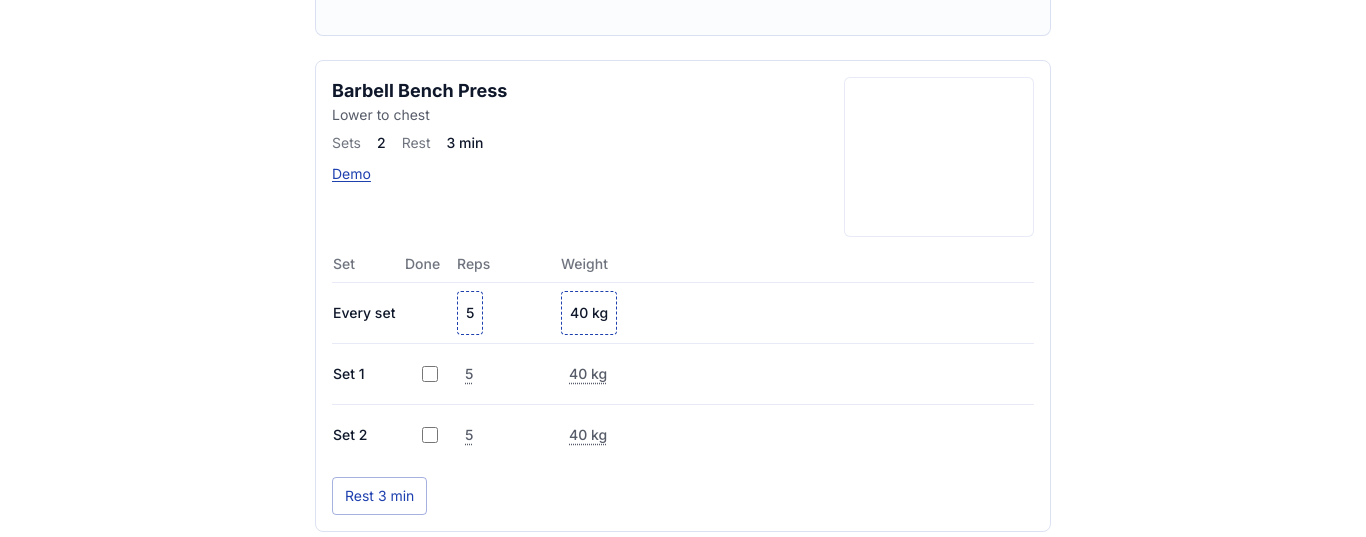
Test: WorkoutApp › should clear the day when a reset is confirmed
(page scrolled)
Step 1. Click the checkbox named "Barbell Bench Press set 1" → (430, 374), box [422,366,438,382]
(page scrolled)
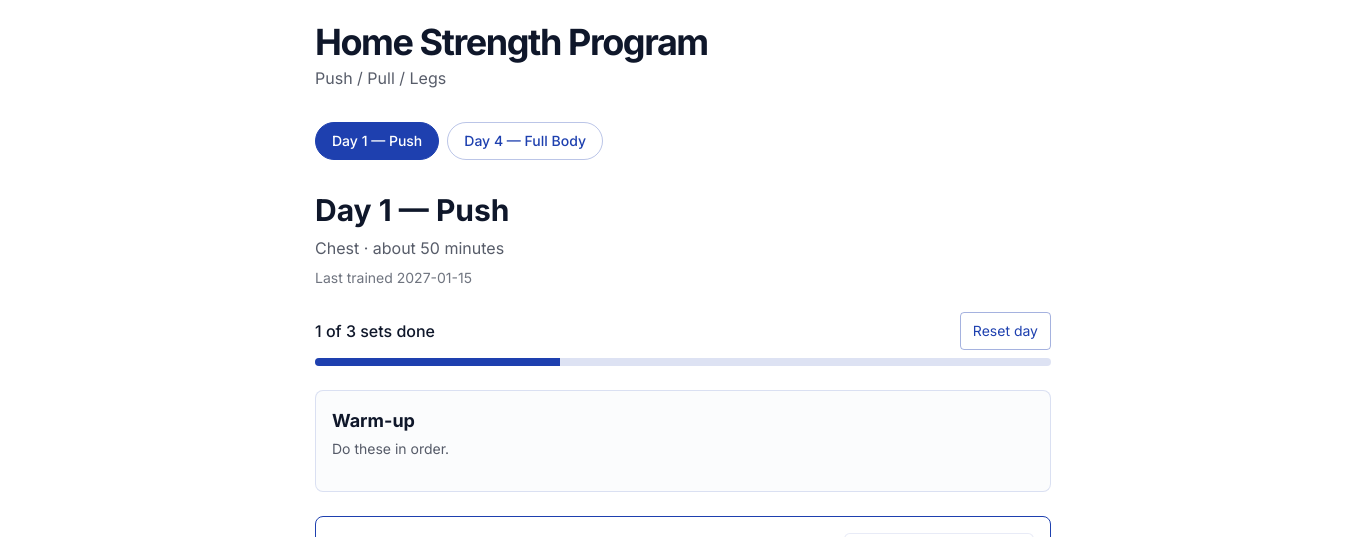
Step 2. Click the button "Reset day" → (1005, 331), box [960,312,1051,350]
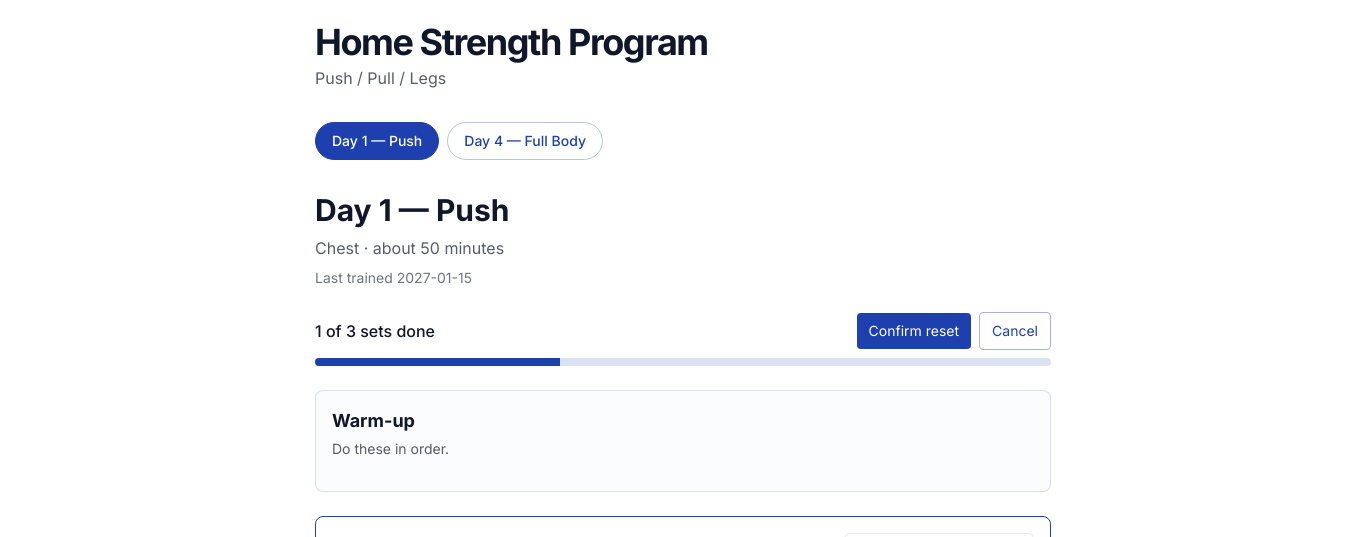
Step 3. Click the button "Confirm reset" → (914, 331), box [857,313,971,349]
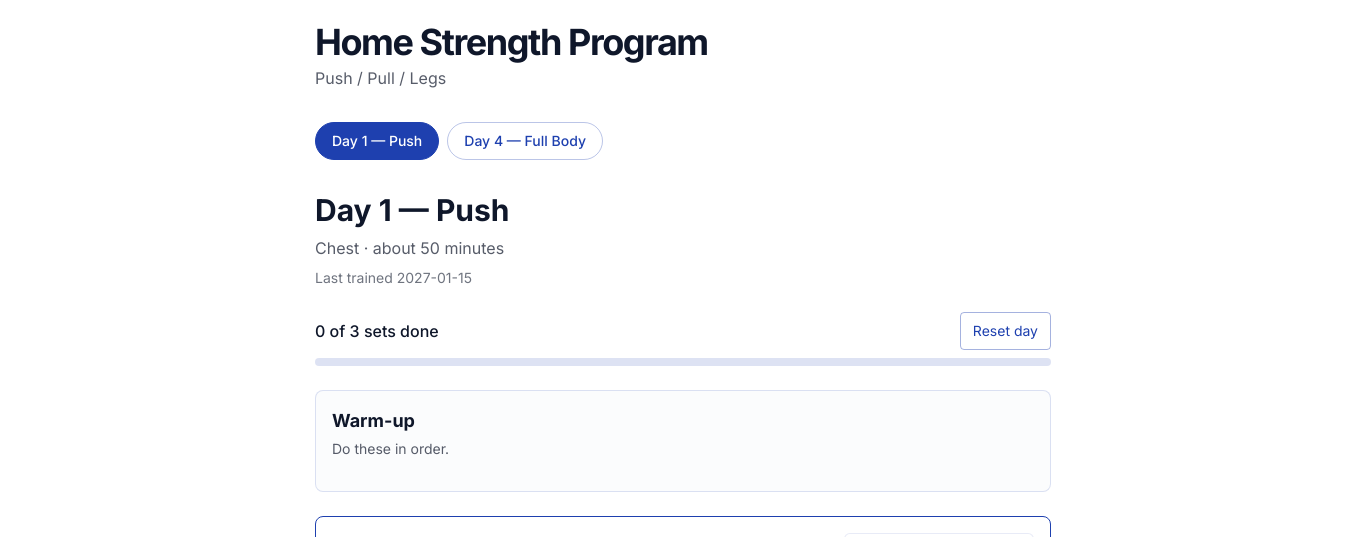
Result: the text "0 of 3 sets done" is shown at [315,319,439,343]
